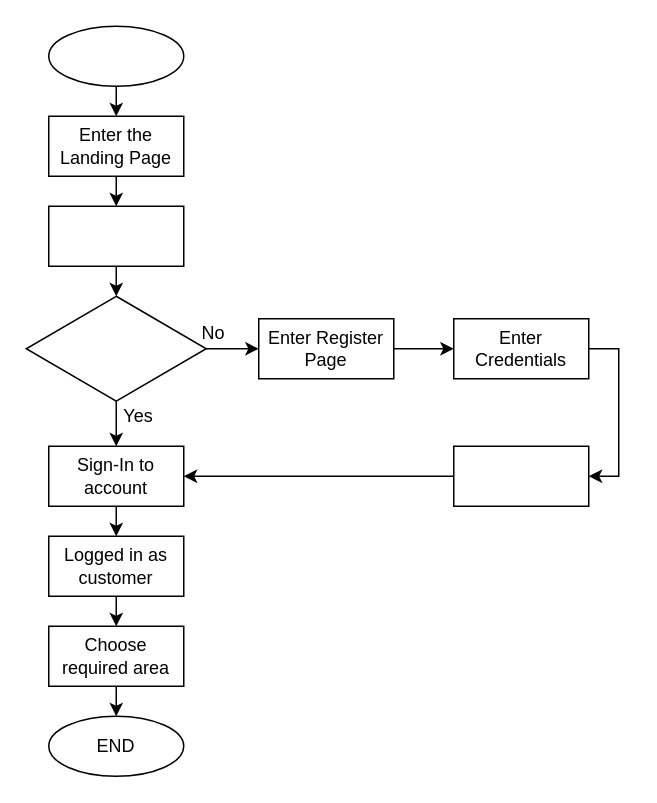
Some shapes in this 657 by 803 pixel diagram are drawn without their labels. Each missing label, with the centre of its shape:
Choose User Login: pixel 115 235
Click Register: pixel 520 475
Have an account?: pixel 115 348
START: pixel 115 55
